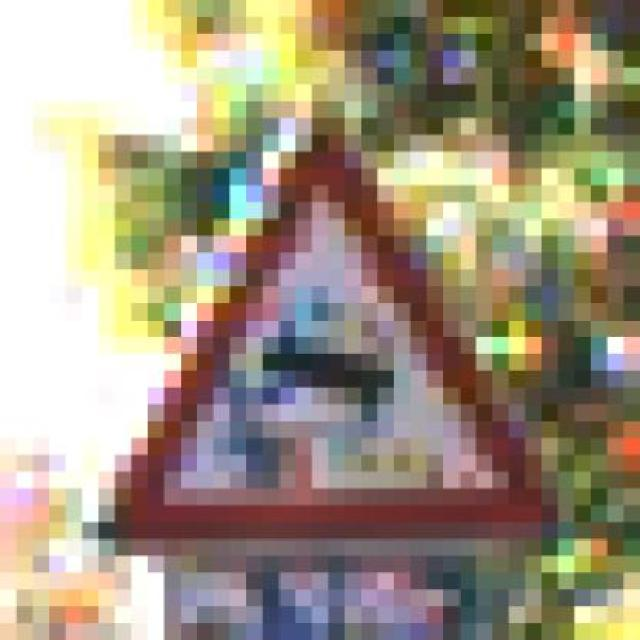Slippery Road Ahead: (82, 101, 590, 556)
